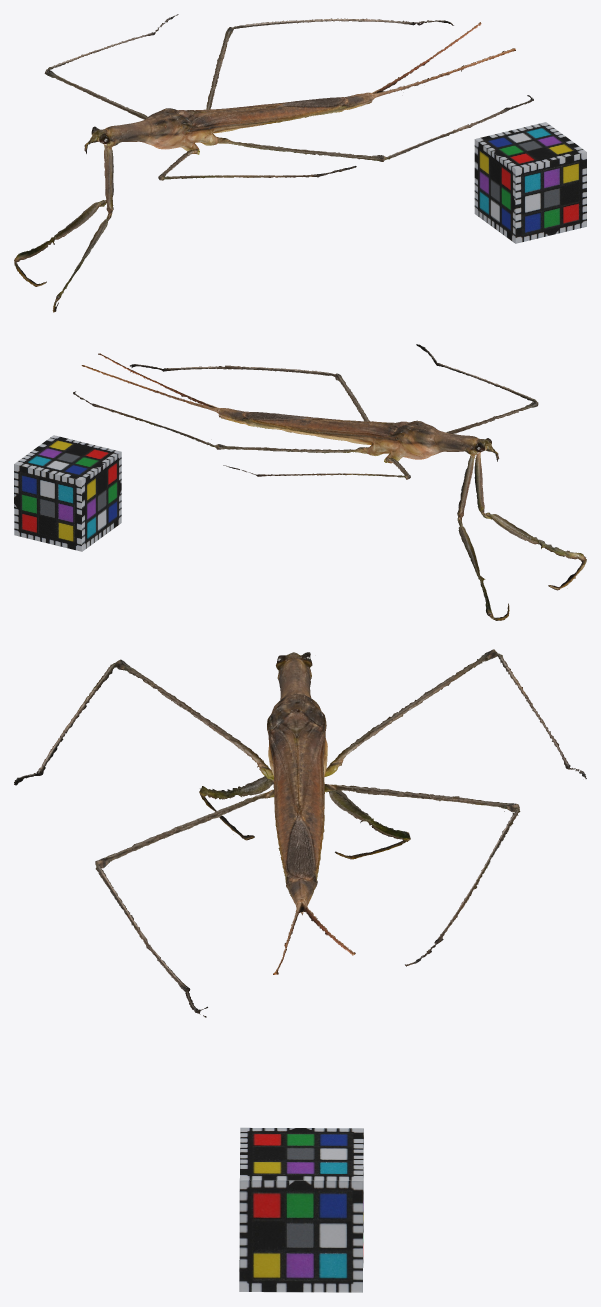
File: placed-2.glb
The picture shows the model from 3 angles, top to bottom: view 1: azimuth 30°, elevation 25°; view 2: azimuth 150°, elevation 25°; view 3: azimuth 270°, elevation 25°; orthographic projection. The views are drawn at different scales.
Parts seen in each view (by area): view 1: Q11486-1all-4_5, Cube_2; view 2: Q11486-1all-4_5, Cube_2; view 3: Q11486-1all-4_5, Cube_2.
Part boxes in pixels (<box>): Q11486-1all-4_5: <box>14,14,533,312</box>; Cube_2: <box>474,122,586,243</box>; Q11486-1all-4_5: <box>73,344,586,620</box>; Cube_2: <box>14,435,121,551</box>; Q11486-1all-4_5: <box>14,649,586,1017</box>; Cube_2: <box>239,1127,363,1292</box>.
Bounding box in the file's own units: 0.0375 × 0.0136 × 0.0227.
Materials: 2 (2 with a texture image).
